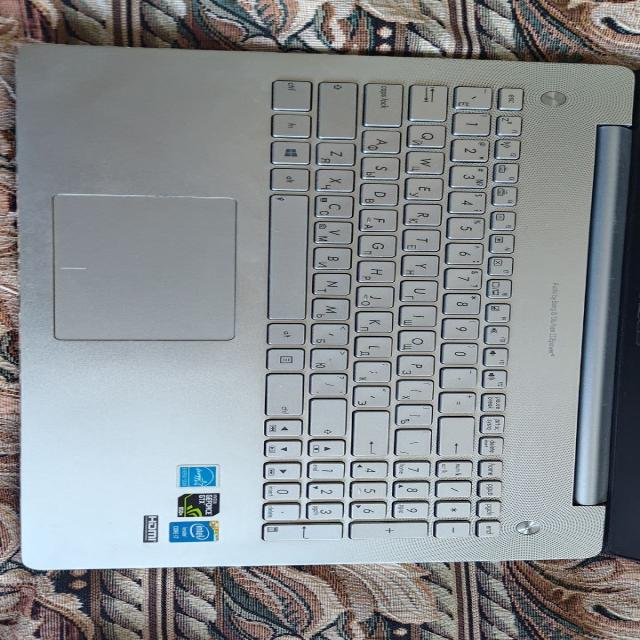other: (39, 57, 178, 132)
